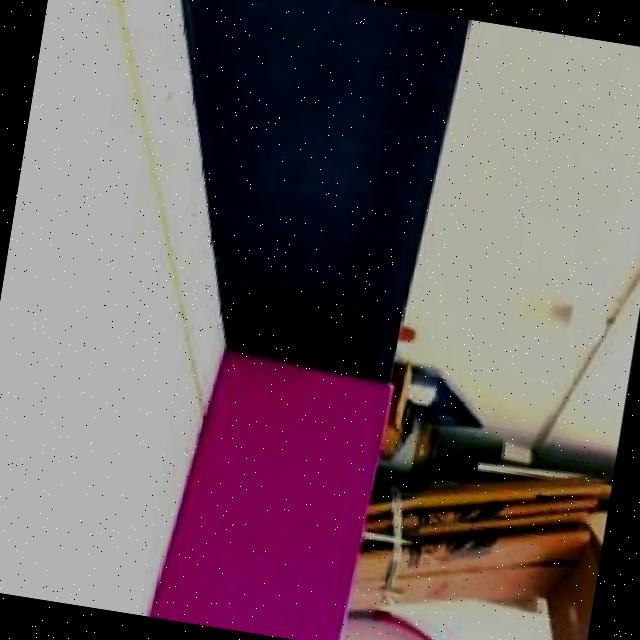xparking: (154, 350, 376, 640)
